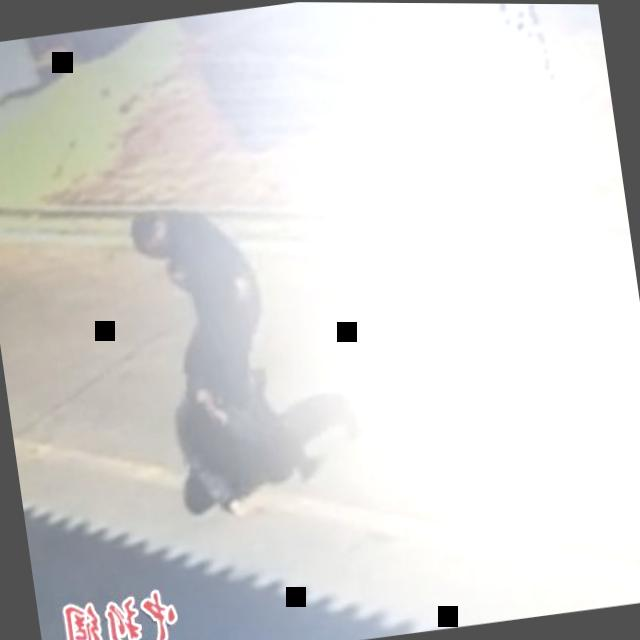Fall-Detected: (153, 342, 357, 530)
